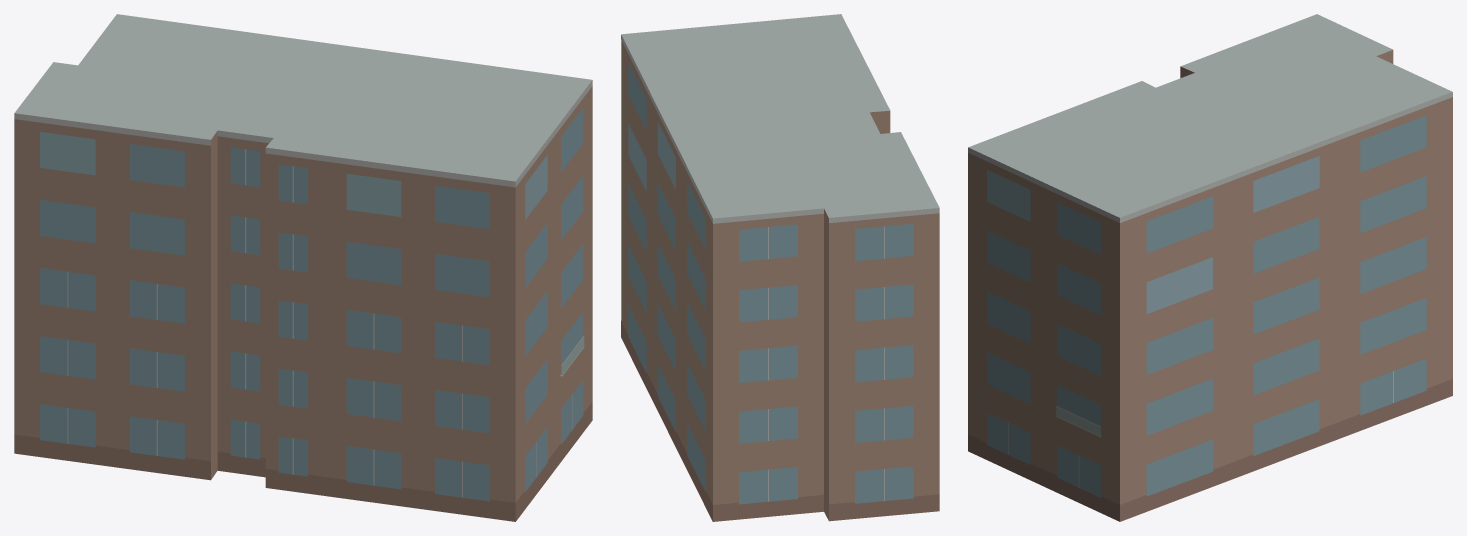
The model's file is survey-upis-32535954.glb.
3 views of the same model, side by side, from view 1: azimuth 30°, elevation 25°; view 2: azimuth 150°, elevation 25°; view 3: azimuth 270°, elevation 25° (orthographic). The views are drawn at different scales.
Visible parts, largest first — view 1: survey-upis-32535954.tmp; view 2: survey-upis-32535954.tmp; view 3: survey-upis-32535954.tmp.
Part boxes in pixels (x1,y1,x2,y2): survey-upis-32535954.tmp: (14,14,592,521); survey-upis-32535954.tmp: (621,14,939,521); survey-upis-32535954.tmp: (968,14,1452,521).
Size of the model in its own units: 20.44 by 14.2 by 20.53.
